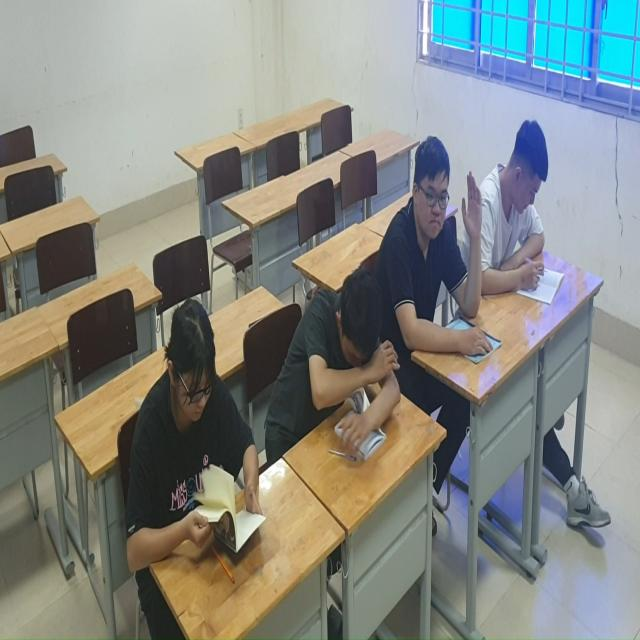raise_hand: (390, 128, 487, 375)
read: (127, 273, 272, 579), (488, 113, 570, 311)
sleep: (264, 263, 407, 463)
